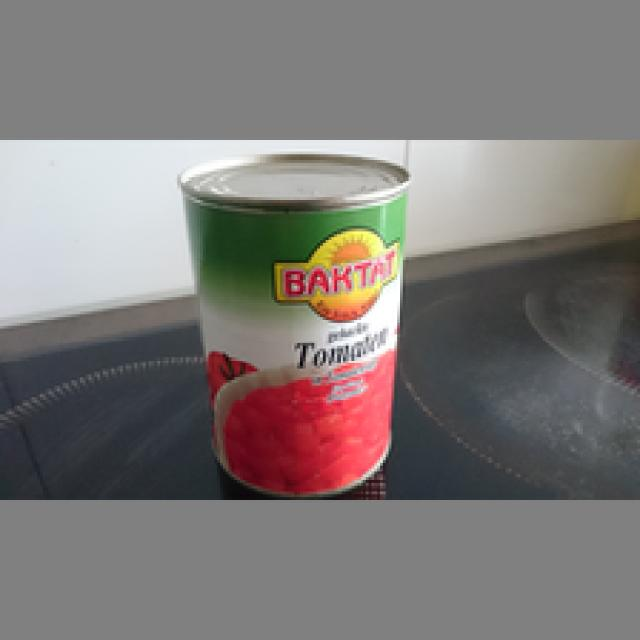groceries: (174, 149, 409, 494)
